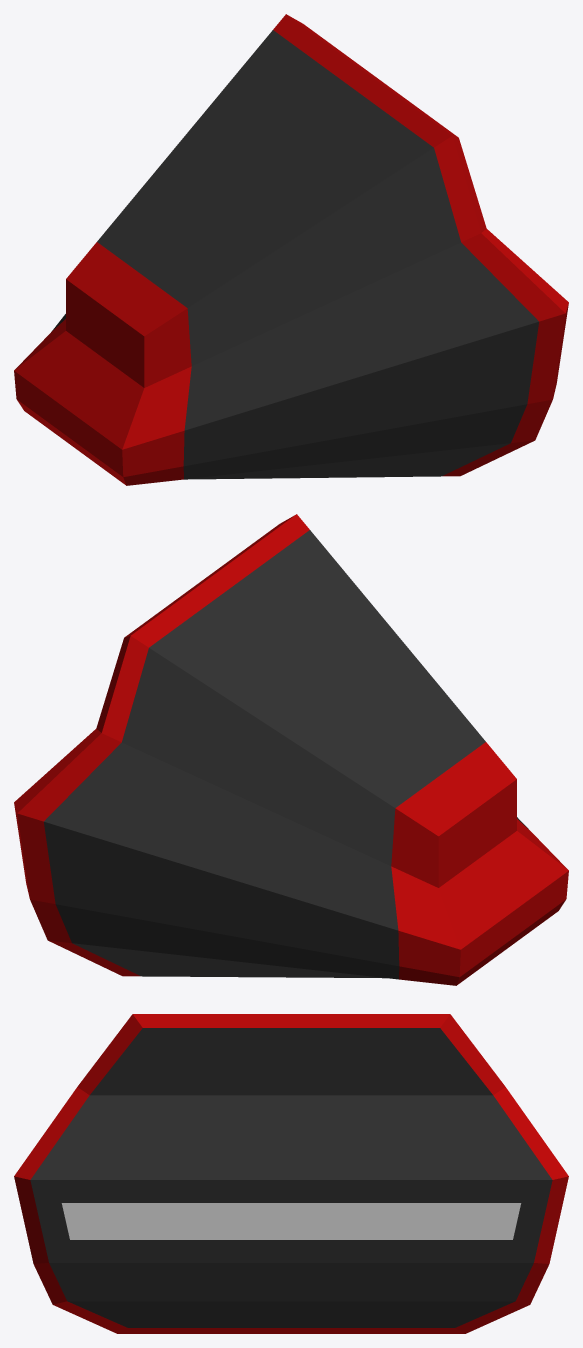
File: pirate hat kinda thing.fbx
3 views of the same model, one above another, from view 1: azimuth 30°, elevation 25°; view 2: azimuth 150°, elevation 25°; view 3: azimuth 270°, elevation 25° (orthographic). The views are drawn at different scales.
Parts seen in each view (by area): view 1: Cube; view 2: Cube; view 3: Cube.
Boxes of the visible parts, x1,y1,x2,y2 form: Cube: [14, 14, 568, 485]; Cube: [14, 514, 568, 985]; Cube: [14, 1014, 568, 1333].
Size of the model in its own units: 270 by 237 by 373.
